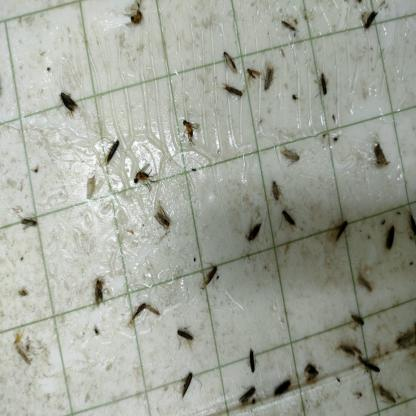prays_oleae: (363, 130, 390, 172), (122, 294, 152, 326), (155, 200, 175, 244), (88, 279, 111, 312), (132, 158, 156, 188), (305, 352, 323, 392), (57, 89, 80, 118), (185, 111, 199, 158), (262, 58, 278, 99), (280, 140, 301, 171), (198, 259, 223, 285), (334, 216, 354, 248), (280, 206, 304, 232), (334, 332, 354, 363), (178, 368, 197, 400), (18, 213, 41, 239), (353, 273, 374, 301), (359, 352, 382, 377), (221, 80, 243, 106), (176, 318, 196, 346), (280, 16, 302, 41), (378, 381, 398, 408), (246, 340, 260, 378), (243, 61, 262, 89), (272, 378, 295, 400), (238, 382, 258, 407), (346, 310, 366, 334), (244, 223, 262, 249), (403, 202, 416, 238), (104, 142, 123, 166), (382, 215, 394, 253), (221, 47, 237, 75), (320, 69, 332, 103), (266, 179, 284, 201)
